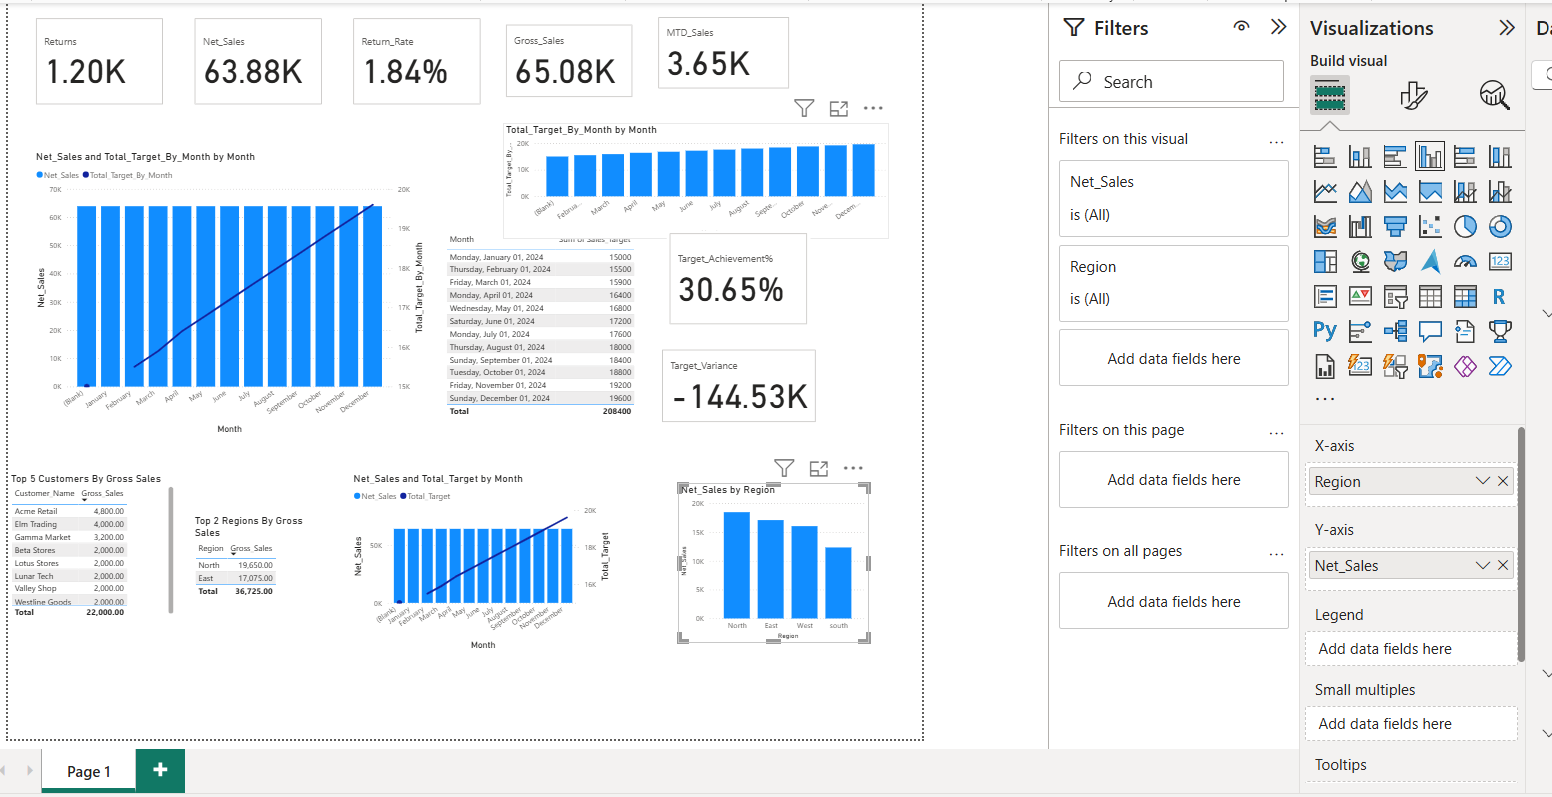

This screenshot's page, from the dashboard's own definition file:
{"tool":"powerbi","page":{"name":"Page 1","canvas":[1490,1200],"ordinal":0},"visuals":[{"type":"cardVisual","fields":{"Data":["customers.Gross_Sales"]},"box":[305.7,189.5,232.3,150.8],"z":0},{"type":"cardVisual","fields":{"Data":["customers.Returns"]},"box":[562.5,183.4,275.1,150.8],"z":1000},{"type":"cardVisual","fields":{"Data":["customers.Net_Sales"]},"box":[30.6,183.4,260.9,150.8],"z":2000},{"type":"cardVisual","fields":{"Data":["customers.Return_Rate"]},"box":[849,183.4,254.8,150.8],"z":3000},{"type":"cardVisual","fields":{"Data":["customers.MTD_Sales"]},"box":[1182.1,760.2,277.2,128.4],"z":4000},{"type":"lineClusteredColumnComboChart","title":"Monthly Net Sales and Total Target By Month","fields":{"Y2":["DateTable.Total_Target_By_Month"],"Category":["MonthTable.MonthStart.Variation.Date Hierarchy.Month"],"Y":["customers.Monthly_Net_Sales"]},"box":[40.8,381.1,642,466.7],"z":5000},{"type":"tableEx","title":"Top 5 Customers By Gross Sales","fields":{"Values":["customers.Column2","customers.Gross_Sales"]},"box":[48.9,878.4,513.6,322],"z":6000},{"type":"cardVisual","fields":{"Data":["DateTable.Target_Achievement%"]},"box":[1118.9,183.4,326.1,150],"z":8000},{"type":"cardVisual","fields":{"Data":["DateTable.Target_Variance"]},"box":[1182.1,611.4,277.2,132.5],"z":9000},{"type":"clusteredColumnChart","fields":{"Category":["RegionTable.Region"],"Y":["customers.Net_Sales"]},"box":[715.4,379.1,448.4,476.9],"z":10000},{"type":"shape","box":[0,6.1,1489.8,150.8],"z":11000},{"type":"areaChart","title":"Total Target By Month by Month","fields":{"Category":["MonthTable.MonthStart.Variation.Date Hierarchy.Month"],"Y":["DateTable.Total_Target_By_Month"]},"box":[595.1,923.2,868.2,252.7],"z":12001},{"type":"advancedSlicerVisual","fields":{"Values":["RegionTable.Region"]},"box":[1206.5,379.1,252.7,201.8],"z":12002}]}

Visuals, with their boxes on the page's 1490x1200 design canvas (x1, y1, x2, y2). These are canvas units, not pixel positions in the 1552x797 screenshot, which may show the page scaled, cropped or inside an application window:
cardVisual - customers.Gross_Sales: 306, 190, 538, 340
cardVisual - customers.Returns: 562, 183, 838, 334
cardVisual - customers.Net_Sales: 31, 183, 292, 334
cardVisual - customers.Return_Rate: 849, 183, 1104, 334
cardVisual - customers.MTD_Sales: 1182, 760, 1459, 889
"Monthly Net Sales and Total Target By Month" lineClusteredColumnComboChart: 41, 381, 683, 848
"Top 5 Customers By Gross Sales" tableEx: 49, 878, 562, 1200
cardVisual - DateTable.Target_Achievement%: 1119, 183, 1445, 333
cardVisual - DateTable.Target_Variance: 1182, 611, 1459, 744
clusteredColumnChart - RegionTable.Region x customers.Net_Sales: 715, 379, 1164, 856
shape: 0, 6, 1490, 157
"Total Target By Month by Month" areaChart: 595, 923, 1463, 1176
advancedSlicerVisual - RegionTable.Region: 1206, 379, 1459, 581
